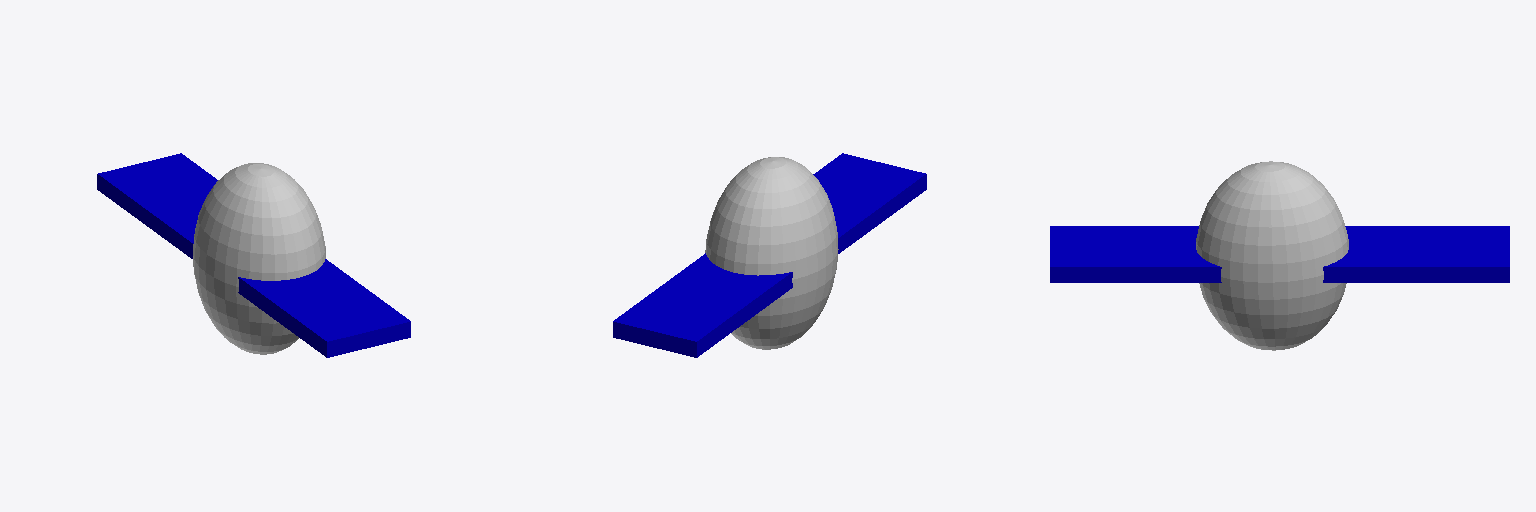
Rendered from bomb.obj.
The picture shows the model from 3 angles: view 1: azimuth 30°, elevation 25°; view 2: azimuth 150°, elevation 25°; view 3: azimuth 270°, elevation 25°; orthographic projection.
Visible parts, largest first — view 1: Sphere, Cube_Cube.001; view 2: Sphere, Cube_Cube.001; view 3: Sphere, Cube_Cube.001.
Part boxes in pixels (bbox=[...]): Sphere: bbox=[193, 163, 325, 354]; Cube_Cube.001: bbox=[97, 153, 410, 357]; Sphere: bbox=[705, 157, 838, 349]; Cube_Cube.001: bbox=[613, 153, 926, 357]; Sphere: bbox=[1196, 161, 1348, 350]; Cube_Cube.001: bbox=[1050, 226, 1509, 282].
Size of the model in its own units: 2.62 by 4.17 by 9.54.